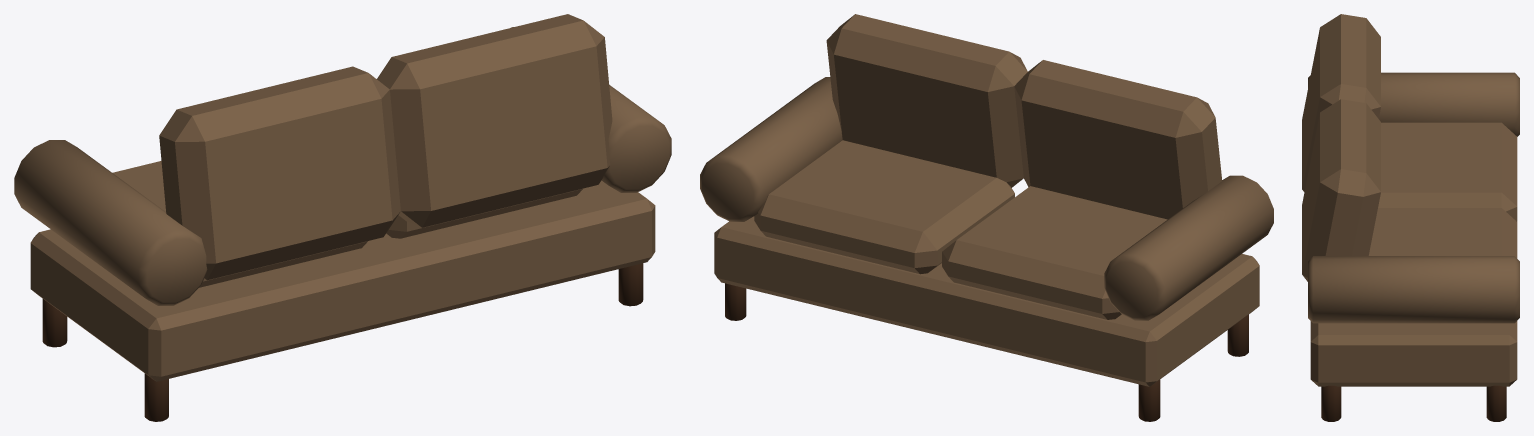
Rendered from prop_sofa.obj.
The picture shows the model from 3 angles, left to right: view 1: azimuth 30°, elevation 25°; view 2: azimuth 150°, elevation 25°; view 3: azimuth 270°, elevation 25°; orthographic projection. The views are drawn at different scales.
Visible parts, largest first — view 1: Frame, BackL, BackR, ArmL, ArmR, CushL, CushR, Leg_-0.36_-0.32, Leg_1.36_-0.32, Leg_-0.36_0.32; view 2: Frame, BackL, BackR, CushR, CushL, ArmL, ArmR, Leg_-0.36_0.32, Leg_1.36_0.32, Leg_-0.36_-0.32; view 3: ArmR, Frame, CushL, BackR, ArmL, CushR, BackL, Leg_1.36_-0.32, Leg_1.36_0.32.
Boxes of the visible parts, <box> form: Frame: <box>30,180,655,381</box>; BackL: <box>159,66,400,280</box>; BackR: <box>377,14,612,227</box>; ArmL: <box>14,140,207,305</box>; ArmR: <box>511,27,671,192</box>; CushL: <box>112,161,367,287</box>; CushR: <box>386,188,582,238</box>; Leg_-0.36_-0.32: <box>144,373,168,421</box>; Leg_1.36_-0.32: <box>618,263,643,306</box>; Leg_-0.36_0.32: <box>42,299,67,347</box>; Frame: <box>714,216,1259,386</box>; BackL: <box>1014,60,1222,219</box>; BackR: <box>826,14,1027,187</box>; CushR: <box>754,140,1014,274</box>; CushL: <box>942,186,1167,319</box>; ArmL: <box>1104,175,1273,320</box>; ArmR: <box>700,77,842,221</box>; Leg_-0.36_0.32: <box>1138,379,1160,421</box>; Leg_1.36_0.32: <box>725,283,746,320</box>; Leg_-0.36_-0.32: <box>1227,314,1248,356</box>; ArmR: <box>1308,256,1519,323</box>; Frame: <box>1310,221,1517,386</box>; CushL: <box>1378,122,1517,221</box>; BackR: <box>1302,99,1380,281</box>; ArmL: <box>1308,72,1519,136</box>; CushR: <box>1368,208,1517,258</box>; BackL: <box>1302,14,1380,191</box>; Leg_1.36_-0.32: <box>1321,385,1341,421</box>; Leg_1.36_0.32: <box>1486,385,1506,421</box>.
Bounding box in the file's own units: 1.93 × 0.9946 × 0.8429.
